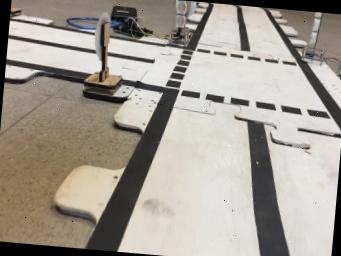street: (82, 5, 341, 256), (5, 17, 102, 81)
traffic_light: (301, 12, 324, 64), (168, 0, 190, 45)
